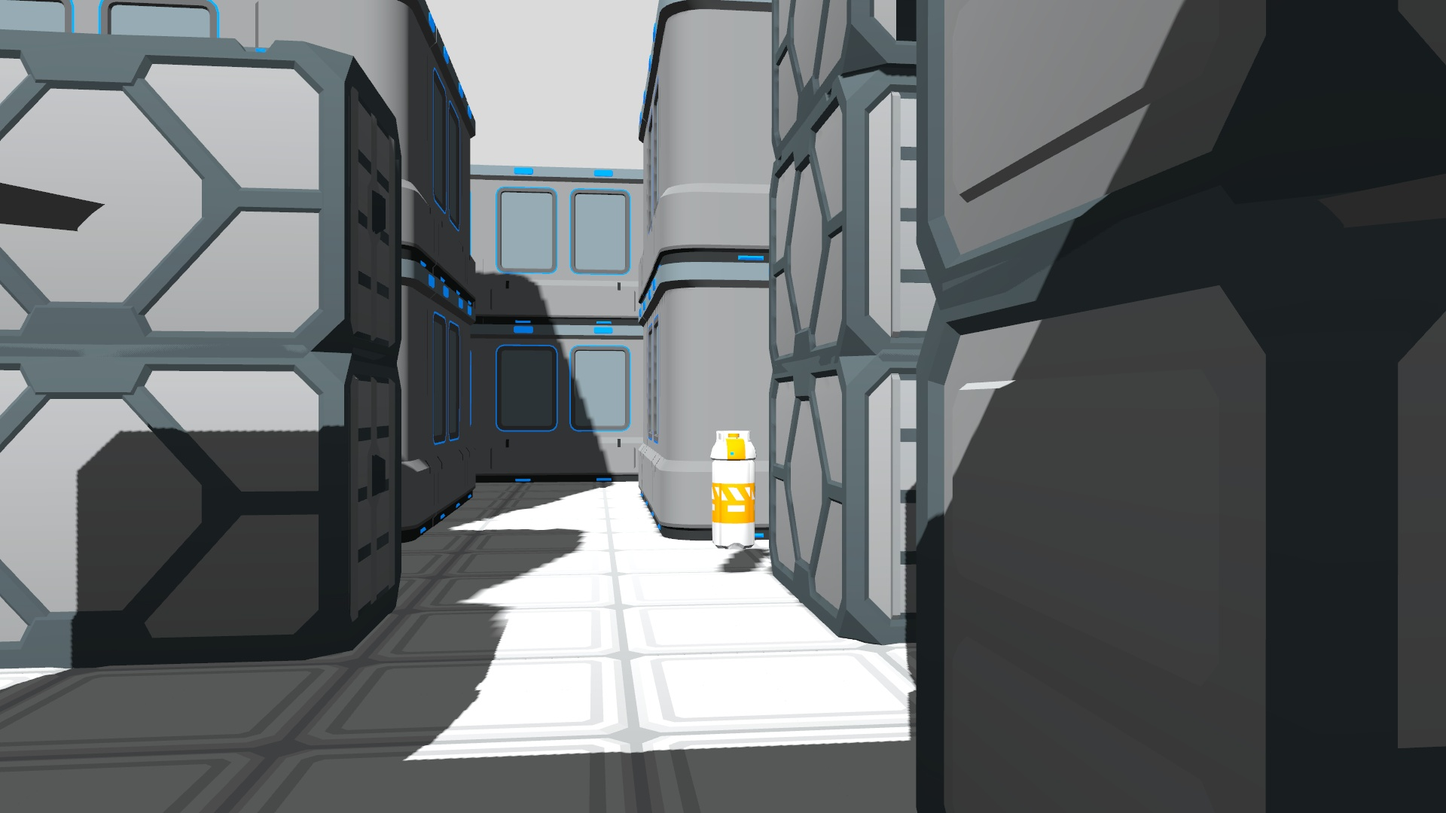yellow_barrel: (705, 424, 758, 553)
